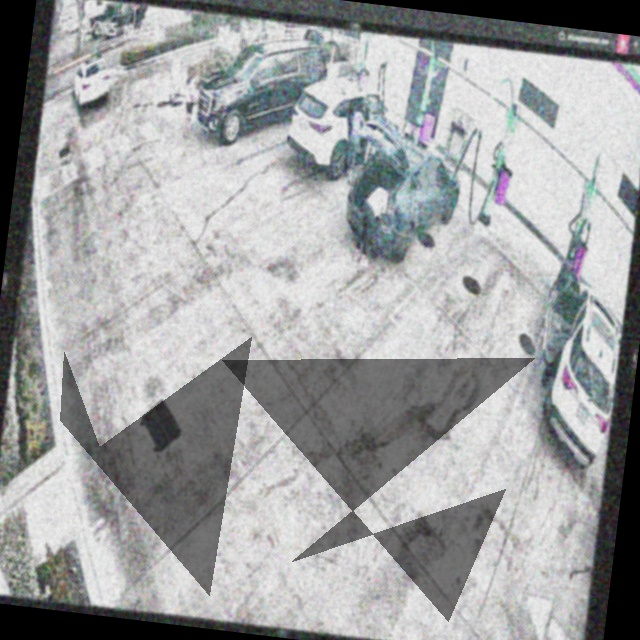Car: (344, 134, 465, 269), (284, 71, 408, 187)
